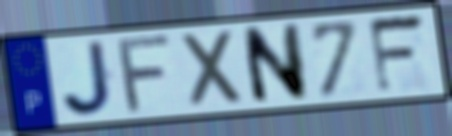7: (309, 17, 361, 100)
F: (365, 10, 430, 97), (116, 32, 177, 117)
J: (59, 38, 119, 119)
N: (238, 21, 311, 108)
X: (178, 27, 248, 111)
